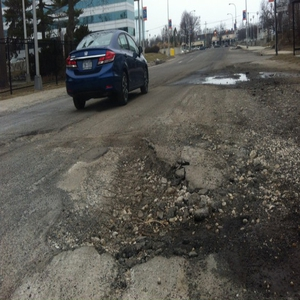pothole: (106, 243, 201, 300), (200, 69, 252, 88)
